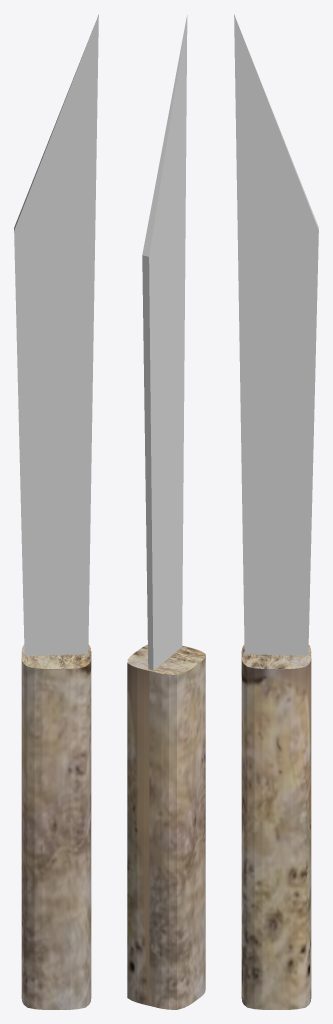
File: sax.glb
The picture shows the model from 3 angles, left to right: view 1: azimuth 90°, elevation 25°; view 2: azimuth 150°, elevation 25°; view 3: azimuth 270°, elevation 25°; orthographic projection.
Parts seen in each view (by area): view 1: blade, handle; view 2: handle, blade; view 3: blade, handle.
Boxes of the visible parts, <box> form: blade: <box>14,14,98,655</box>; handle: <box>21,645,91,1009</box>; handle: <box>127,644,205,1009</box>; blade: <box>142,15,187,670</box>; blade: <box>234,14,318,655</box>; handle: <box>241,645,311,1009</box>.
Size of the model in its own units: 1.64 by 25.54 by 2.
4 materials, 3 textured.
